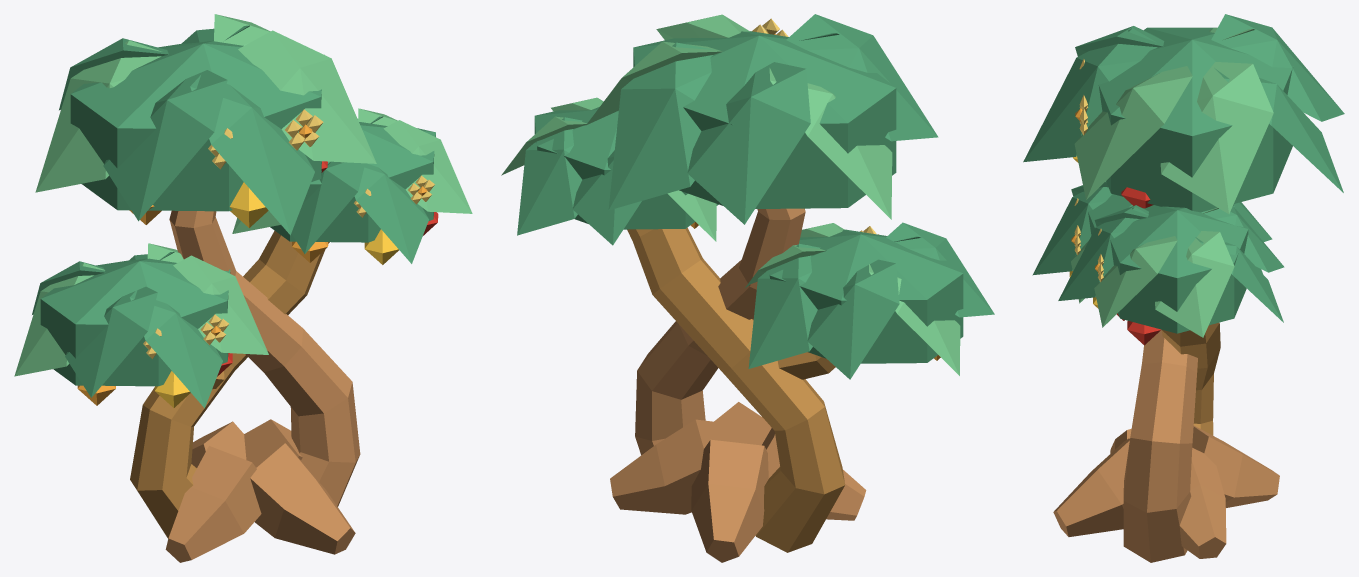
File: 35-eternal-spring-tree.glb
3 views of the same model, side by side, from view 1: azimuth 30°, elevation 25°; view 2: azimuth 150°, elevation 25°; view 3: azimuth 270°, elevation 25° (orthographic). The views are drawn at different scales.
Visible parts, largest first — view 1: 35-eternal-spring-tree_Body; view 2: 35-eternal-spring-tree_Body; view 3: 35-eternal-spring-tree_Body.
Part boxes in pixels (x1,y1,x2,y2): 35-eternal-spring-tree_Body: (14,14,472,562); 35-eternal-spring-tree_Body: (501,14,994,562); 35-eternal-spring-tree_Body: (1023,14,1344,562).
Size of the model in its own units: 0.7504 by 0.8099 by 0.4986.
1 material, 1 textured.
